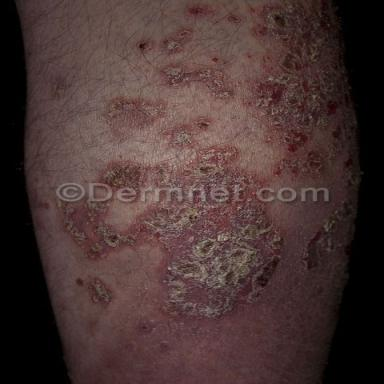Psoriasis: (61, 202, 283, 321), (243, 0, 355, 179), (101, 146, 258, 187), (301, 197, 357, 269), (162, 65, 242, 99), (104, 97, 167, 135), (163, 117, 211, 149), (137, 29, 194, 54), (87, 278, 111, 304), (186, 4, 214, 18), (227, 15, 241, 23)
